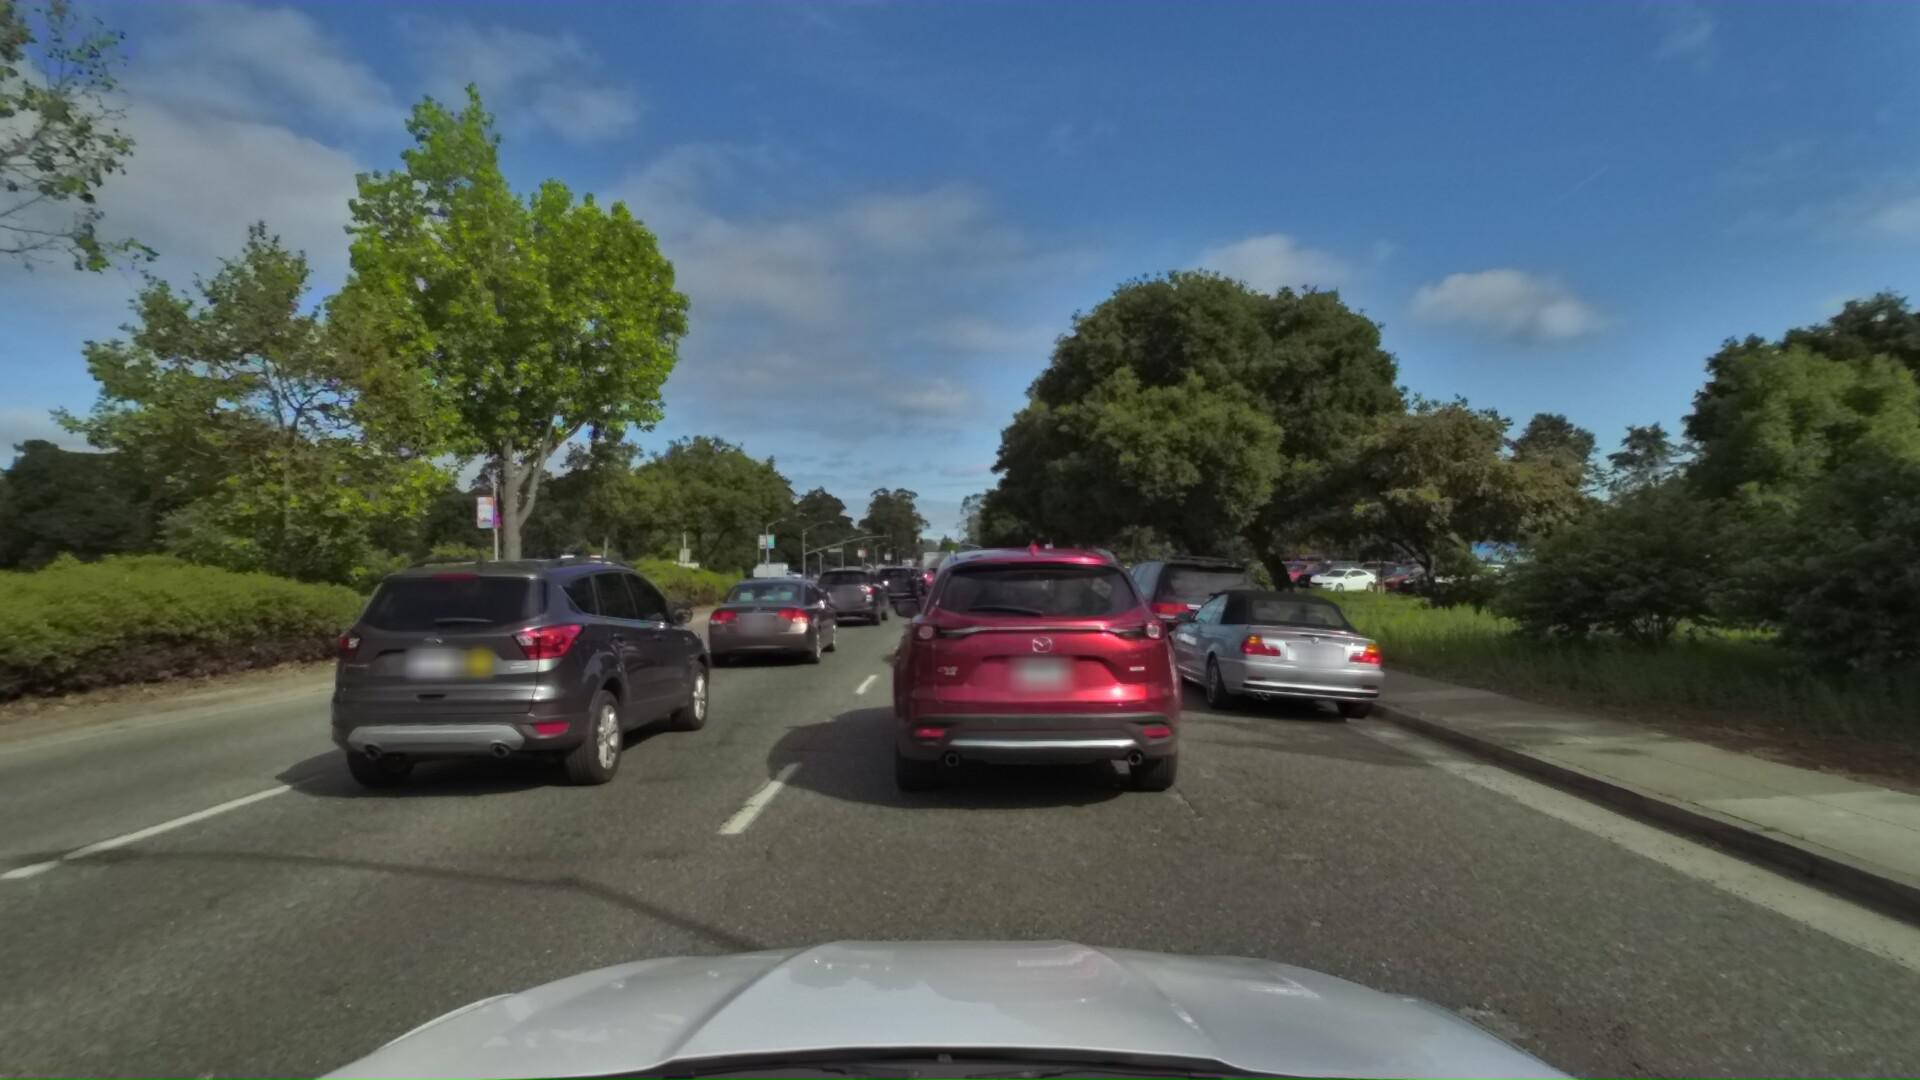car: (286, 541, 728, 823), (855, 522, 1230, 837), (1149, 574, 1399, 735), (1091, 541, 1271, 679), (696, 571, 845, 679), (924, 578, 1058, 683), (1048, 554, 1146, 630), (800, 564, 891, 634), (928, 571, 1014, 634), (870, 564, 924, 607), (891, 568, 932, 599), (909, 568, 942, 593), (922, 567, 949, 589)
other_vehicle: (522, 549, 622, 609)
truck: (347, 556, 488, 625)
